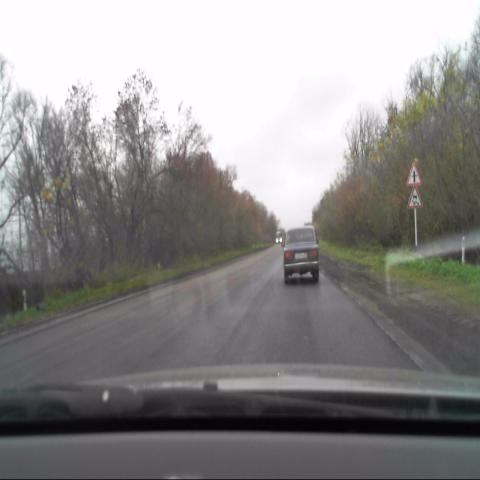1_15: (407, 186, 424, 207)
2_3: (405, 161, 422, 187)
